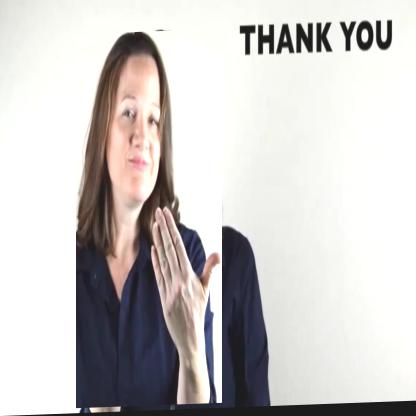ThankYou: (76, 31, 222, 409)
